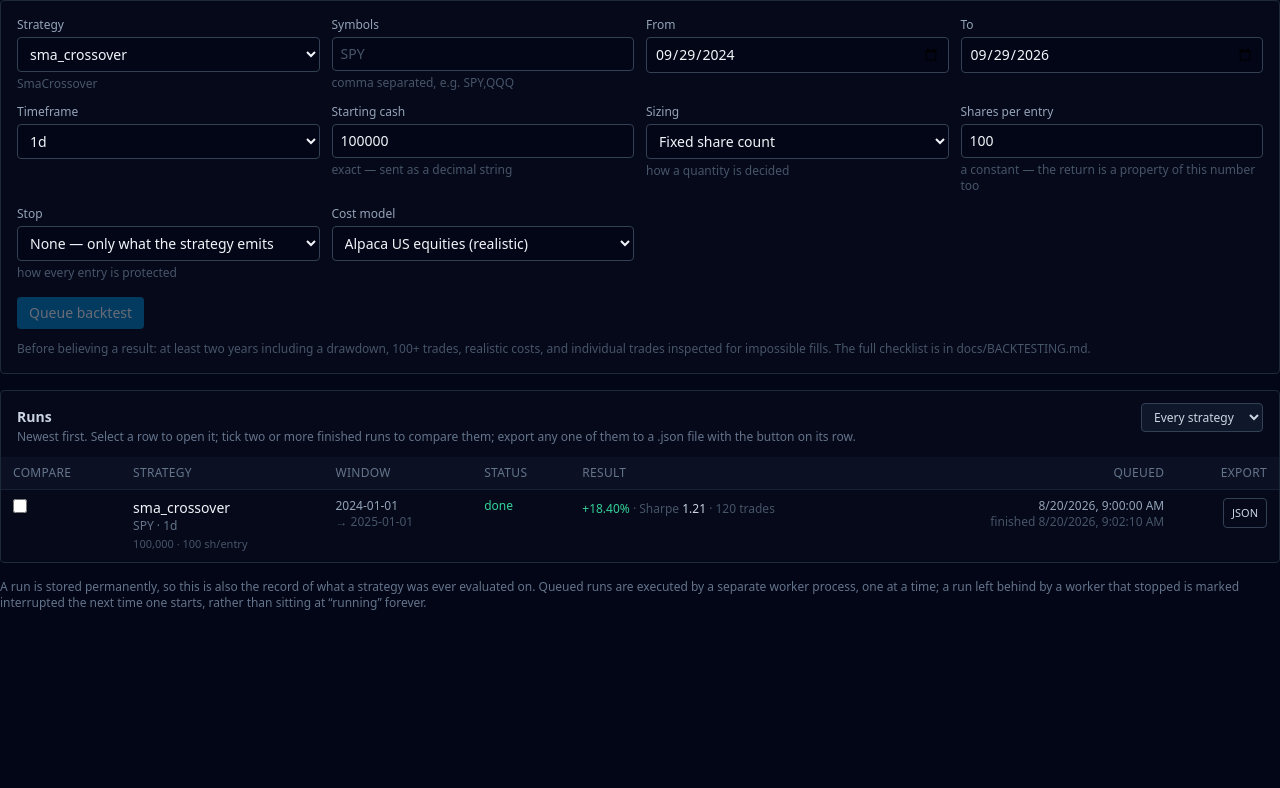
Test: what a run's return is actually made of › says nothing about open positions when the run closed everything
What coordinates should you click on to do the following:
click the text "2024-01-01"
I would click on:
 (398, 526)
Its box is [324,490,472,562].
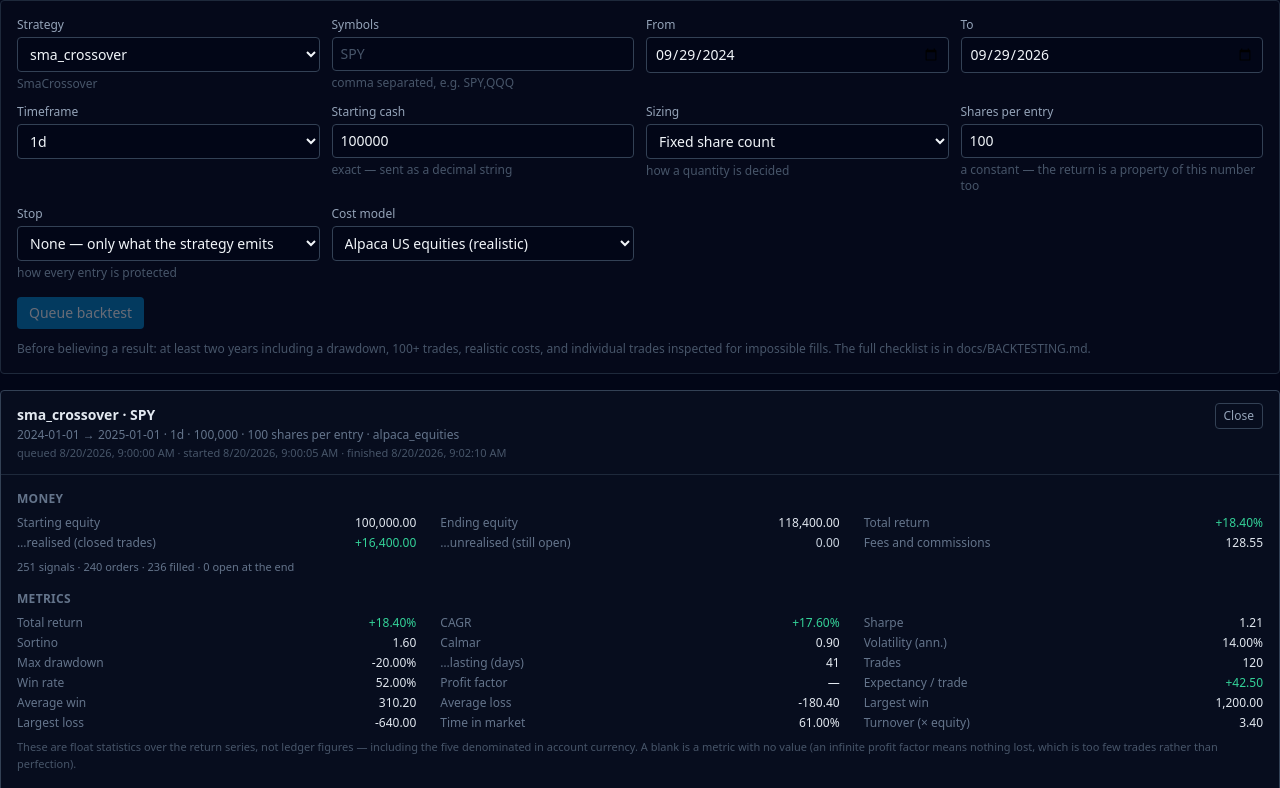
Now the text "Starting equity" is shown, box [17,514,100,530]
